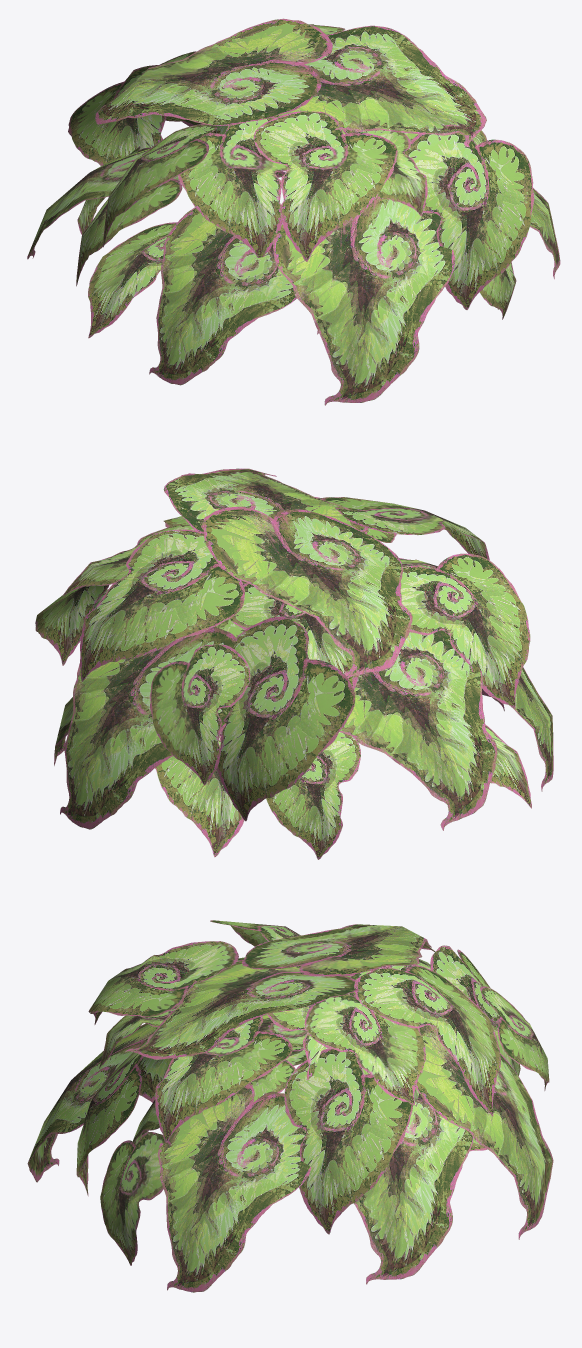
File: Env_Plants_Escargot_01.fbx
3 renders of one model, top to bottom at view 1: azimuth 30°, elevation 25°; view 2: azimuth 150°, elevation 25°; view 3: azimuth 270°, elevation 25°, orthographic. The views are drawn at different scales.
Parts seen in each view (by area): view 1: Env_Plants_EscargotLeaf_01.014; view 2: Env_Plants_EscargotLeaf_01.014; view 3: Env_Plants_EscargotLeaf_01.014.
Part boxes in pixels (x1=…): Env_Plants_EscargotLeaf_01.014: x1=27, y1=18, x2=560, y2=405; Env_Plants_EscargotLeaf_01.014: x1=35, y1=468, x2=553, y2=859; Env_Plants_EscargotLeaf_01.014: x1=27, y1=920, x2=553, y2=1292.
Size of the model in its own units: 52.29 by 27.18 by 46.03.
